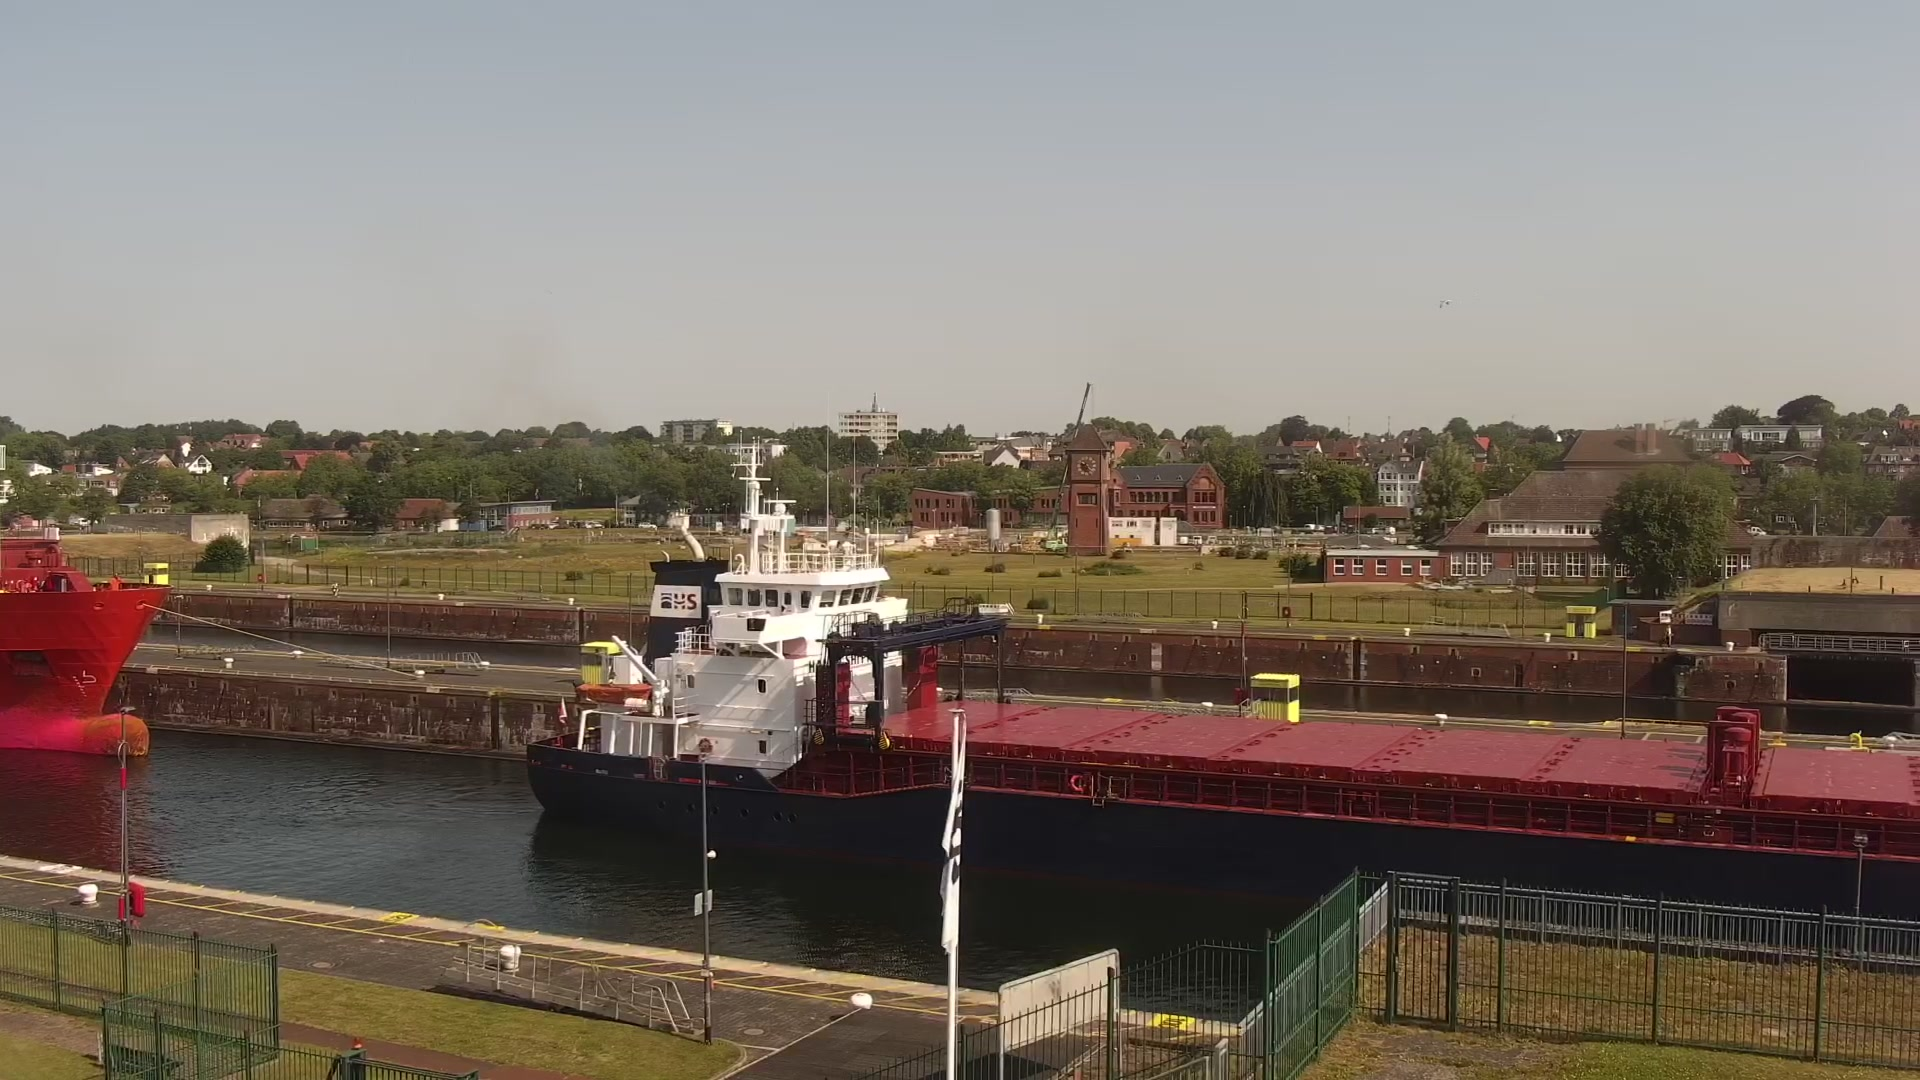human: (331, 581, 339, 597)
land: (1746, 525, 1768, 535), (1303, 523, 1324, 533)
sea: (524, 430, 1919, 945), (1, 535, 172, 761)
